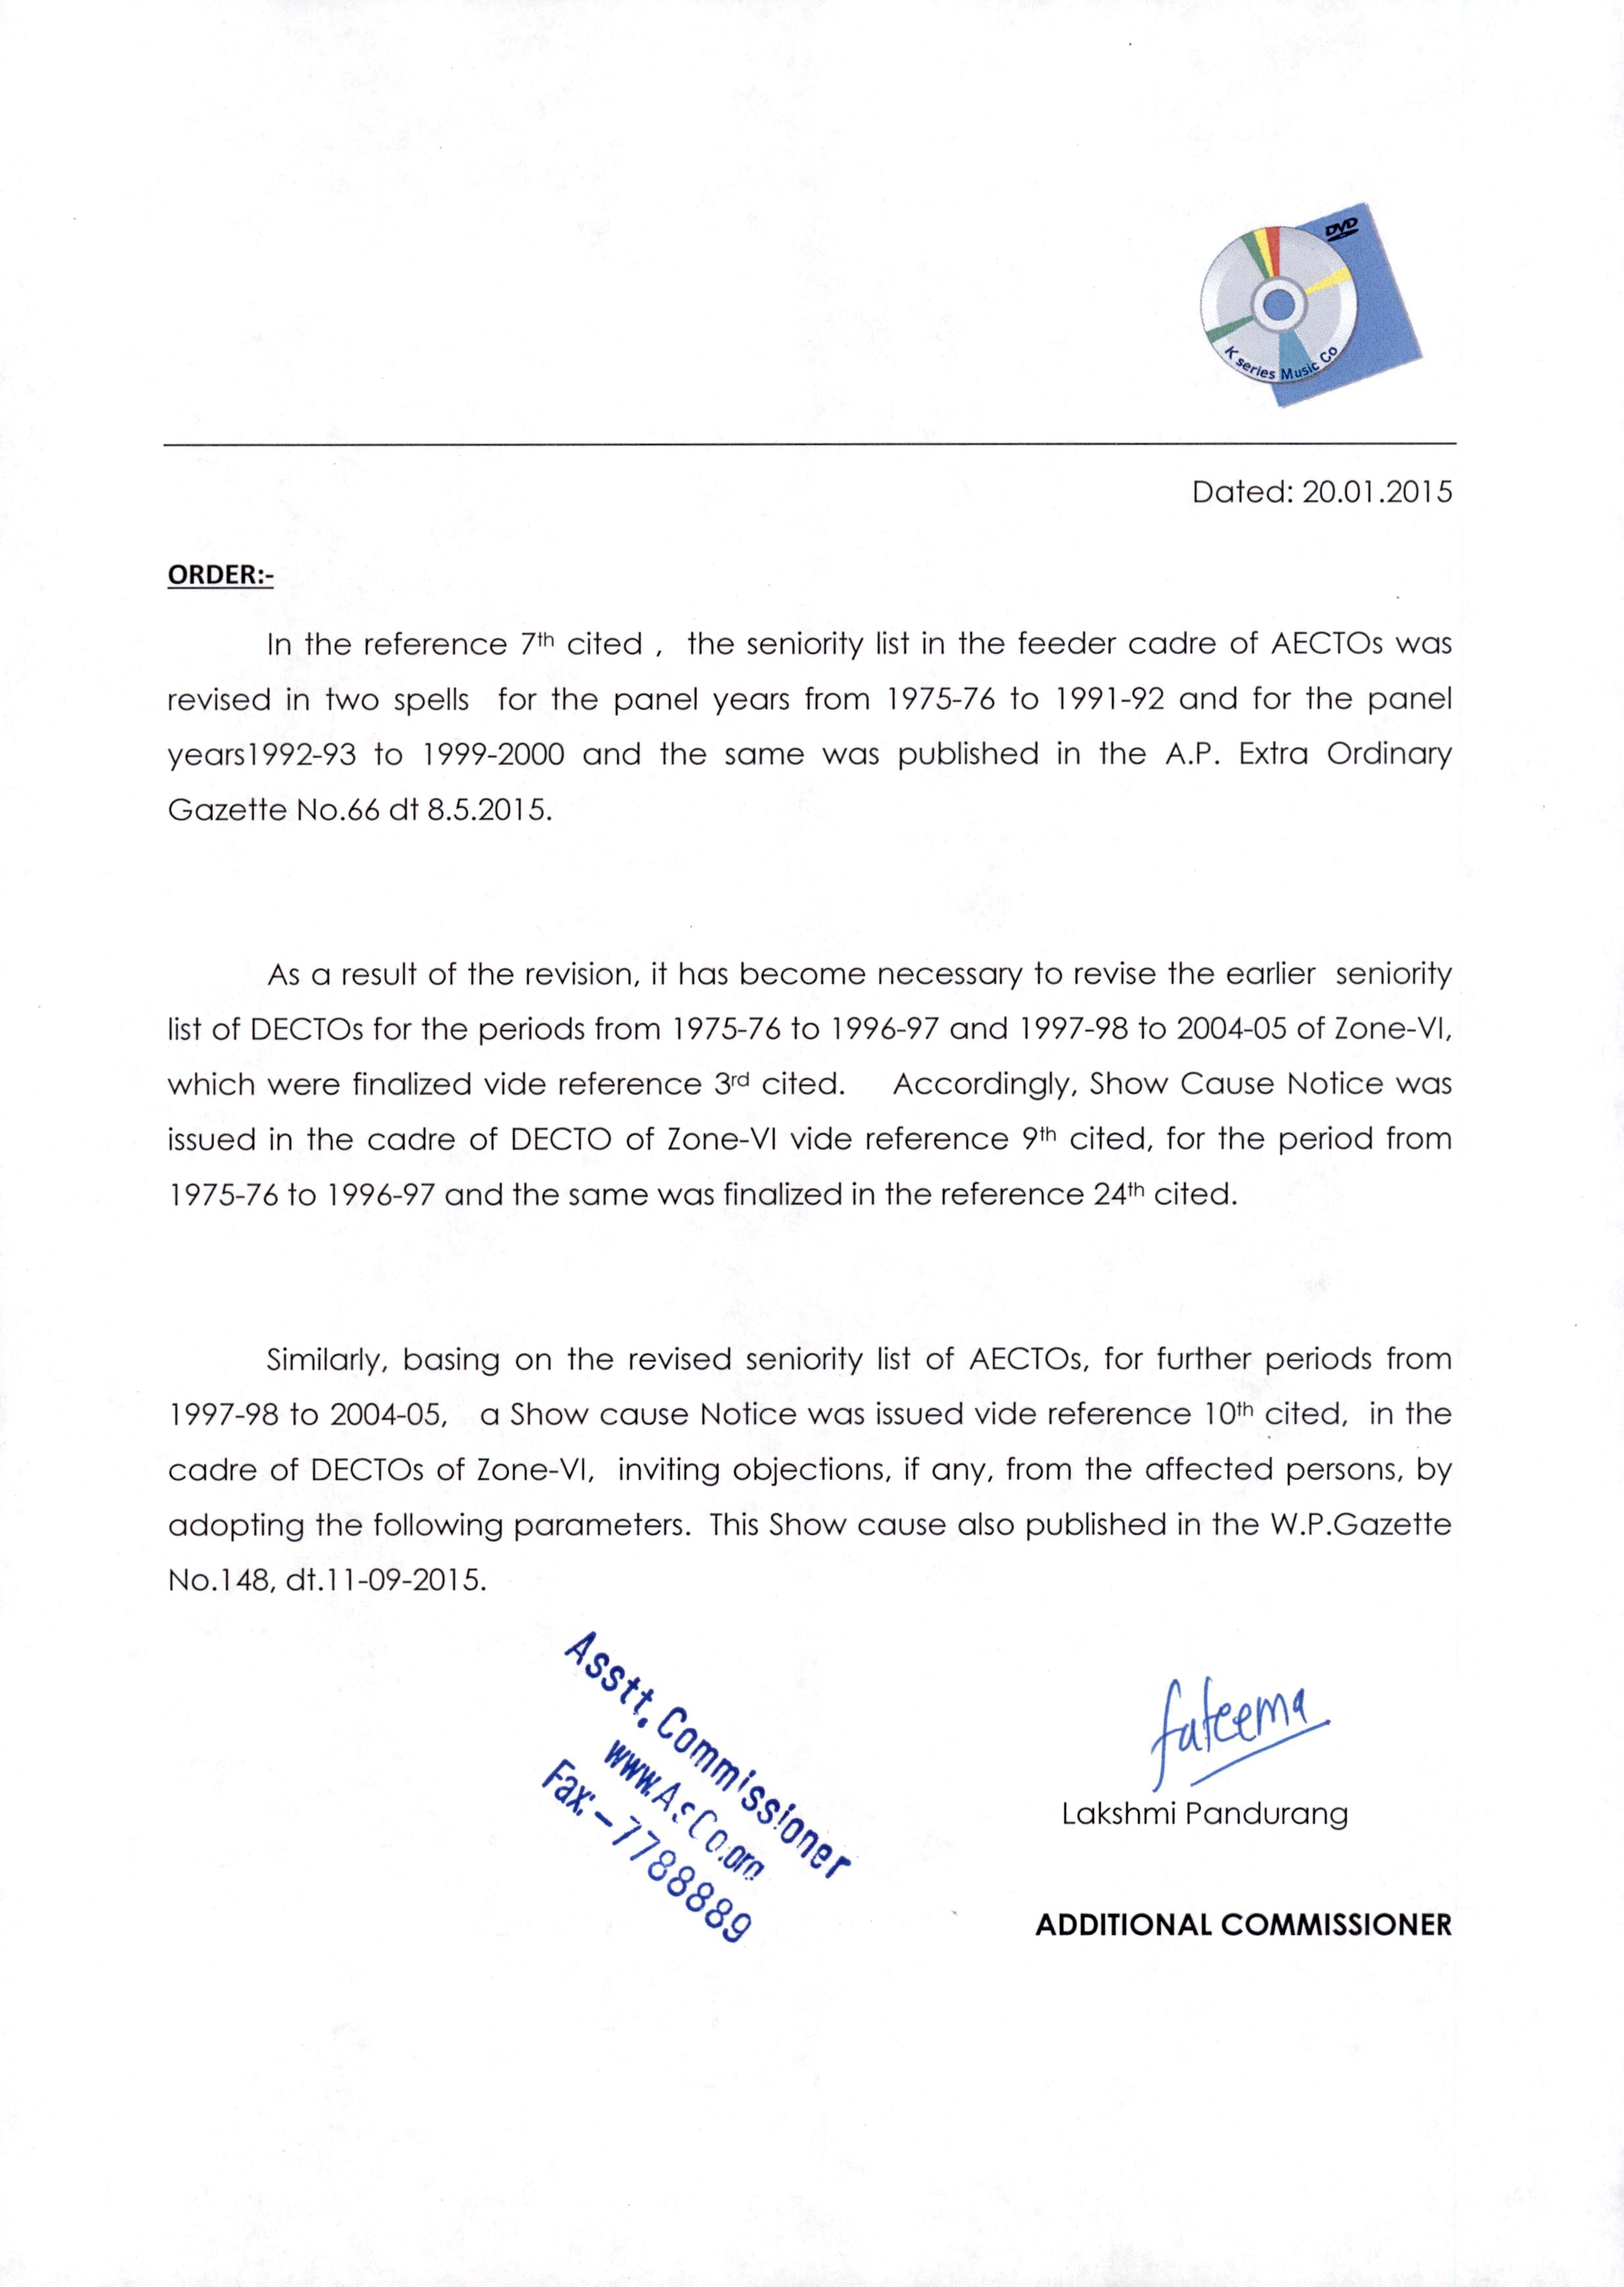Signature: (1137, 1667, 1343, 1800)
